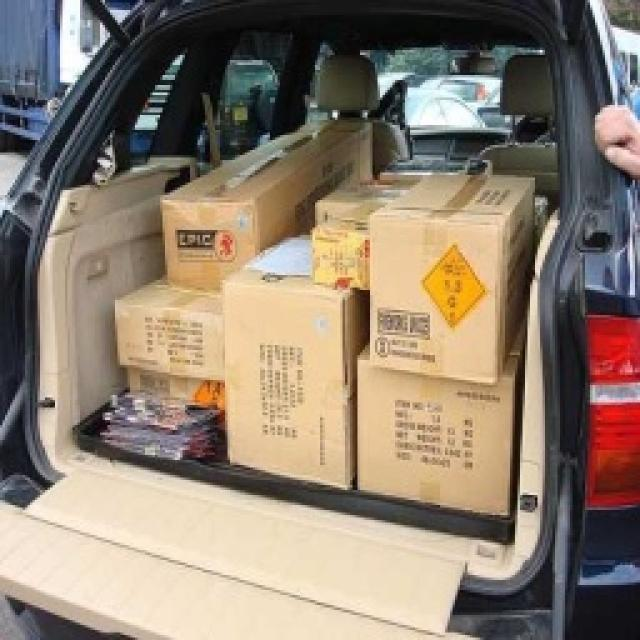box: (166, 88, 383, 282), (214, 260, 366, 488), (338, 344, 524, 521), (368, 175, 532, 373), (127, 279, 229, 374), (110, 356, 234, 432), (313, 168, 404, 233)
